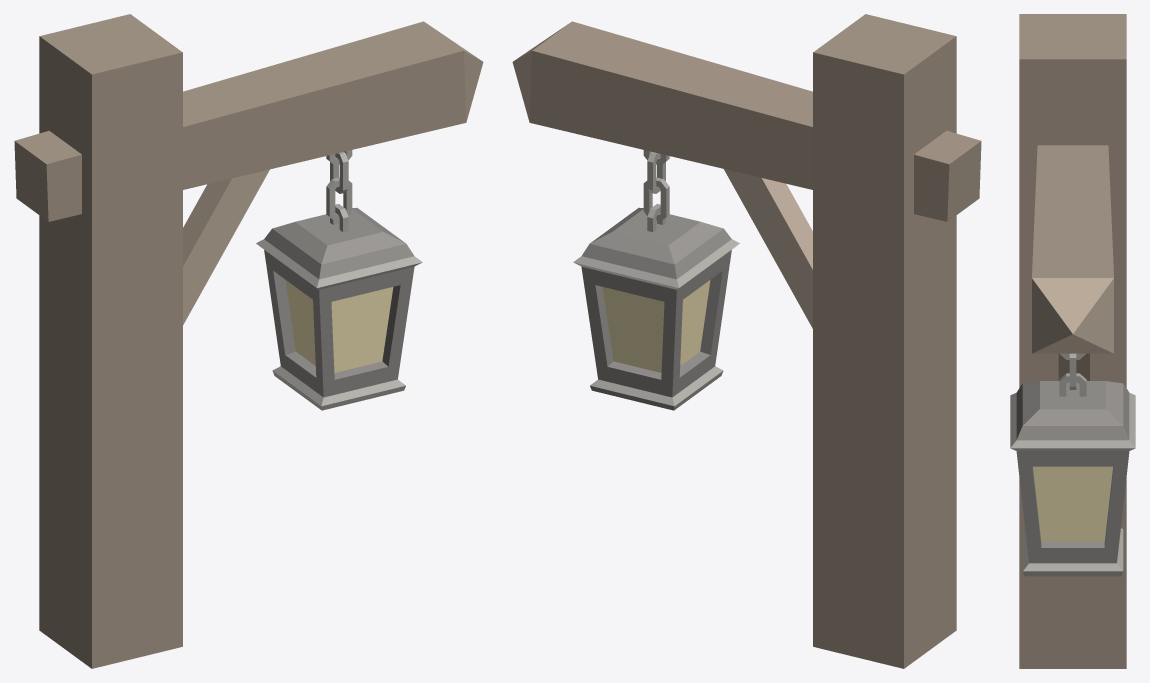
File: Prop_Lamp_Street.glb
3 renders of one model, left to right at view 1: azimuth 30°, elevation 25°; view 2: azimuth 150°, elevation 25°; view 3: azimuth 270°, elevation 25°, orthographic. The views are drawn at different scales.
Parts seen in each view (by area): view 1: Prop_Lamp_Street; view 2: Prop_Lamp_Street; view 3: Prop_Lamp_Street.
Part boxes in pixels (x1,y1,x2,y2): Prop_Lamp_Street: [14, 14, 483, 668]; Prop_Lamp_Street: [512, 14, 981, 668]; Prop_Lamp_Street: [1010, 14, 1135, 668].
Size of the model in its own units: 0.4985 by 0.625 by 0.1167.
